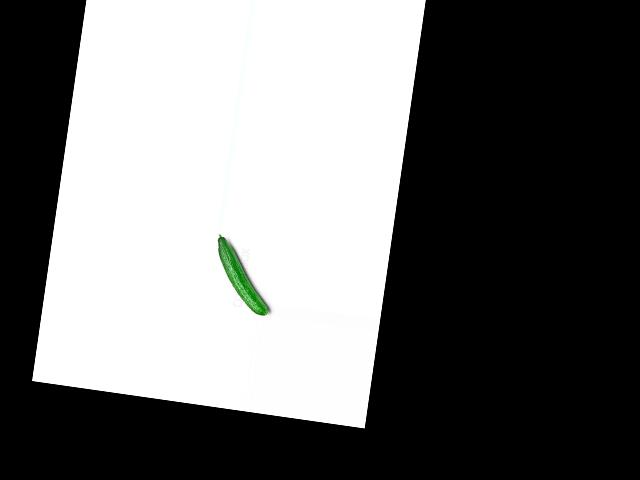cucumber: (208, 233, 279, 315)
